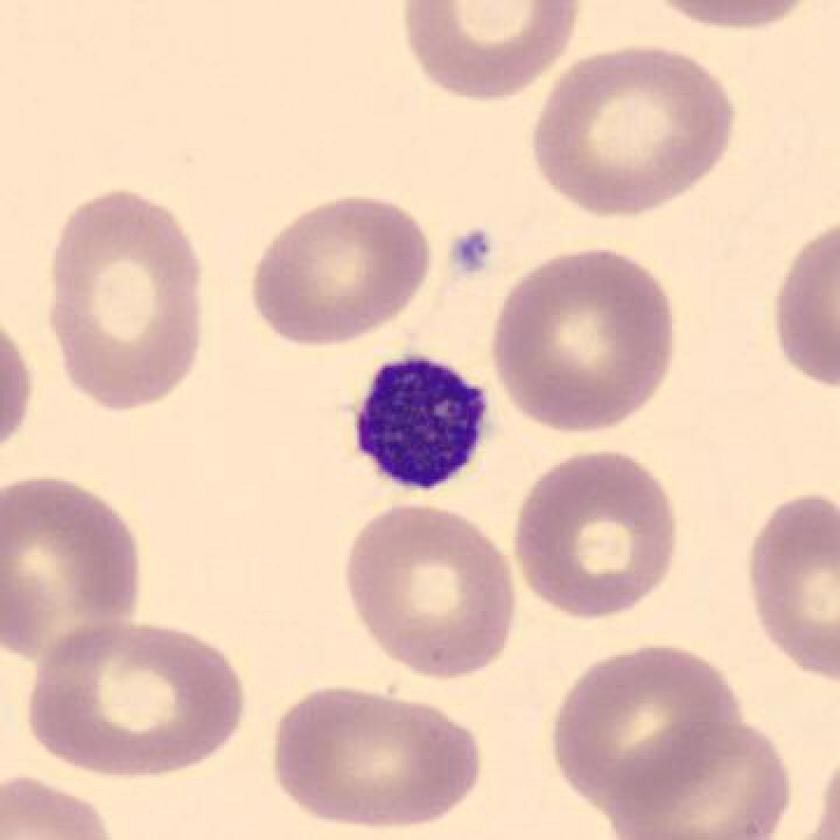platelets: (342, 346, 505, 505), (435, 216, 510, 290)
